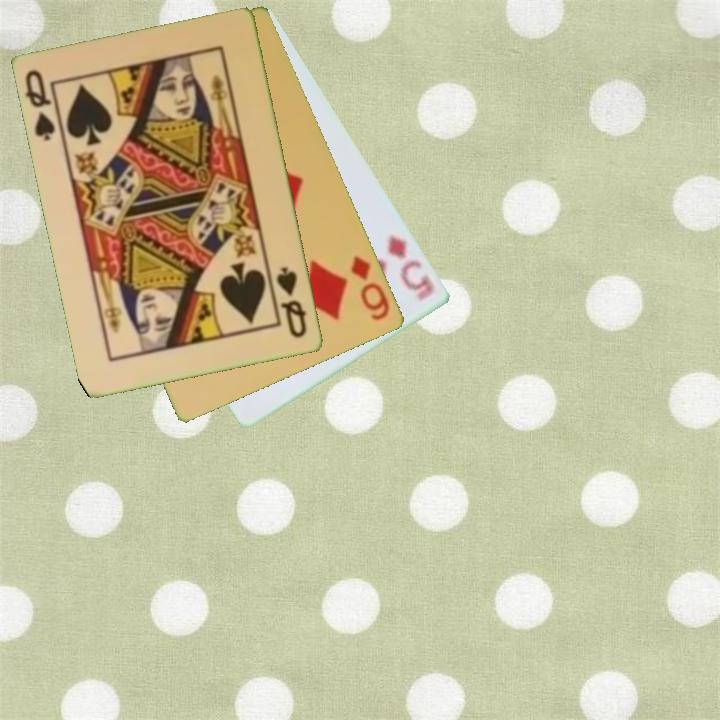5d: (384, 230, 436, 304)
6d: (348, 252, 393, 324)
Qs: (273, 263, 310, 342), (22, 66, 59, 145)
